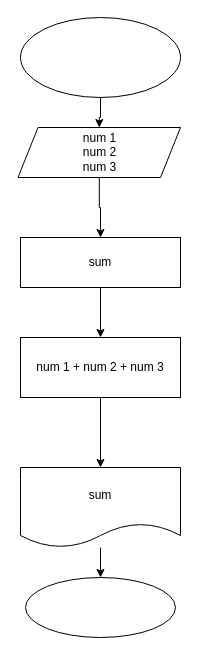
Image size: 198x655. Some labels were removed from this diagram. The centre of each missing label's shape, as x and y in pixels:
"END" belongs at [100,607].
"START" belongs at [100,57].
